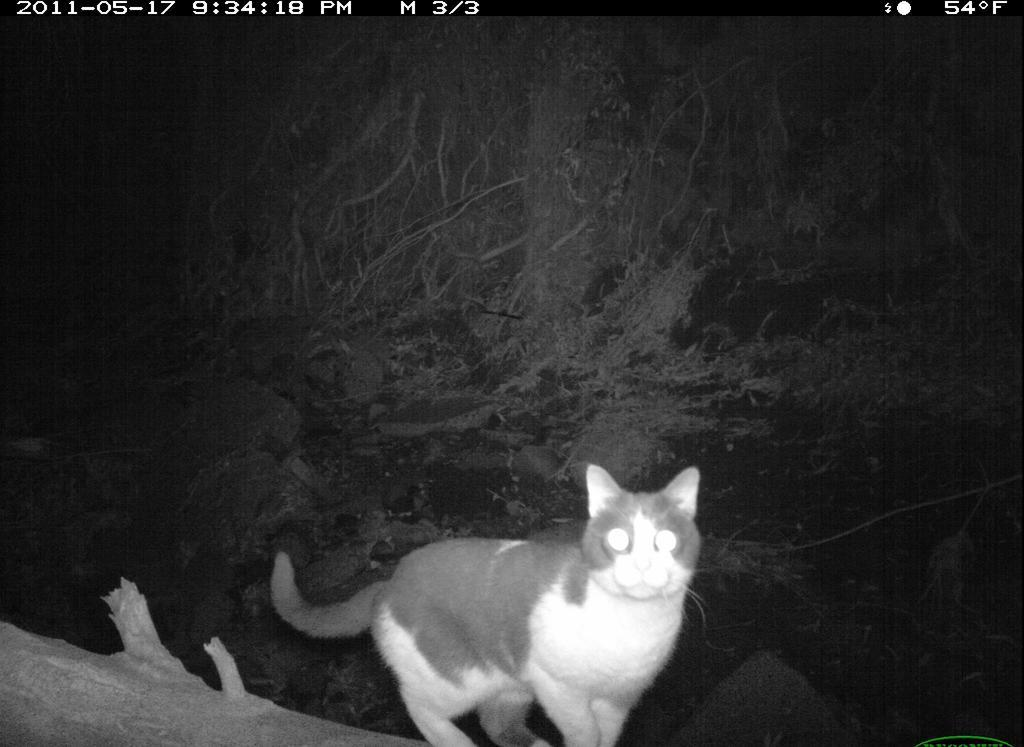cat: (267, 457, 720, 747)
